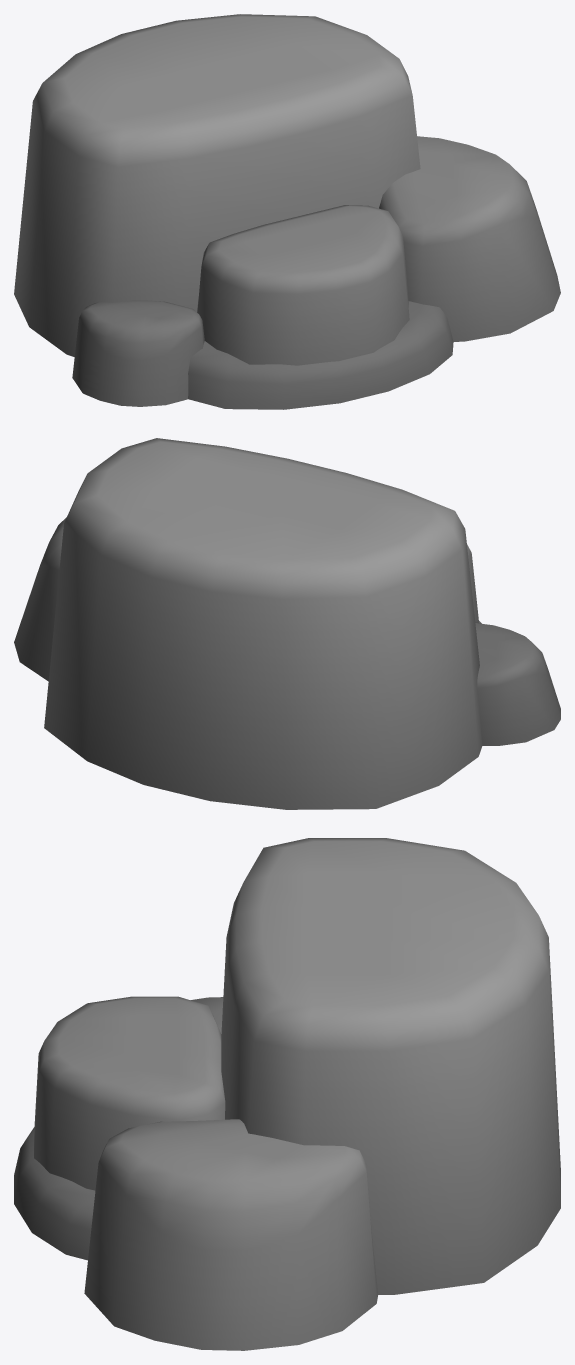
The model's file is Rock_02_B.fbx.
3 views of the same model, one above another, from view 1: azimuth 30°, elevation 25°; view 2: azimuth 150°, elevation 25°; view 3: azimuth 270°, elevation 25° (orthographic). The views are drawn at different scales.
Visible parts, largest first — view 1: Rock_02_B; view 2: Rock_02_B; view 3: Rock_02_B.
Boxes of the visible parts, x1,y1,x2,y2 form: Rock_02_B: (14,14,560,409); Rock_02_B: (14,438,560,809); Rock_02_B: (14,838,560,1350).
Size of the model in its own units: 6349 by 2765 by 5164.
